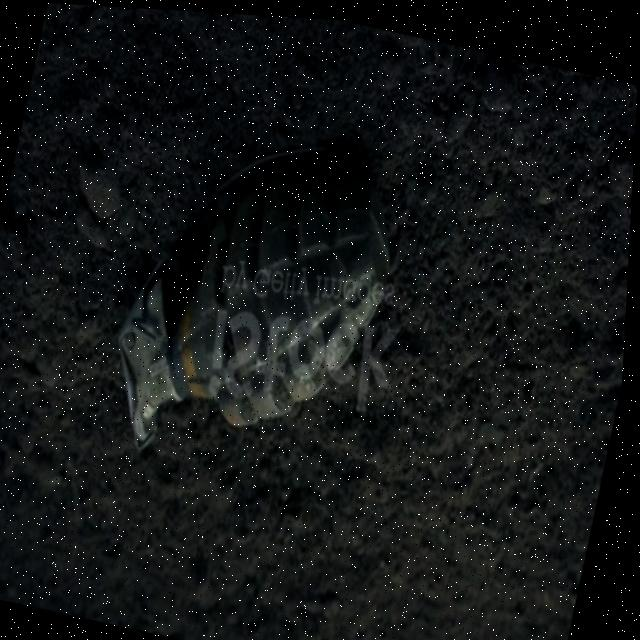grenade: (72, 88, 445, 509)
